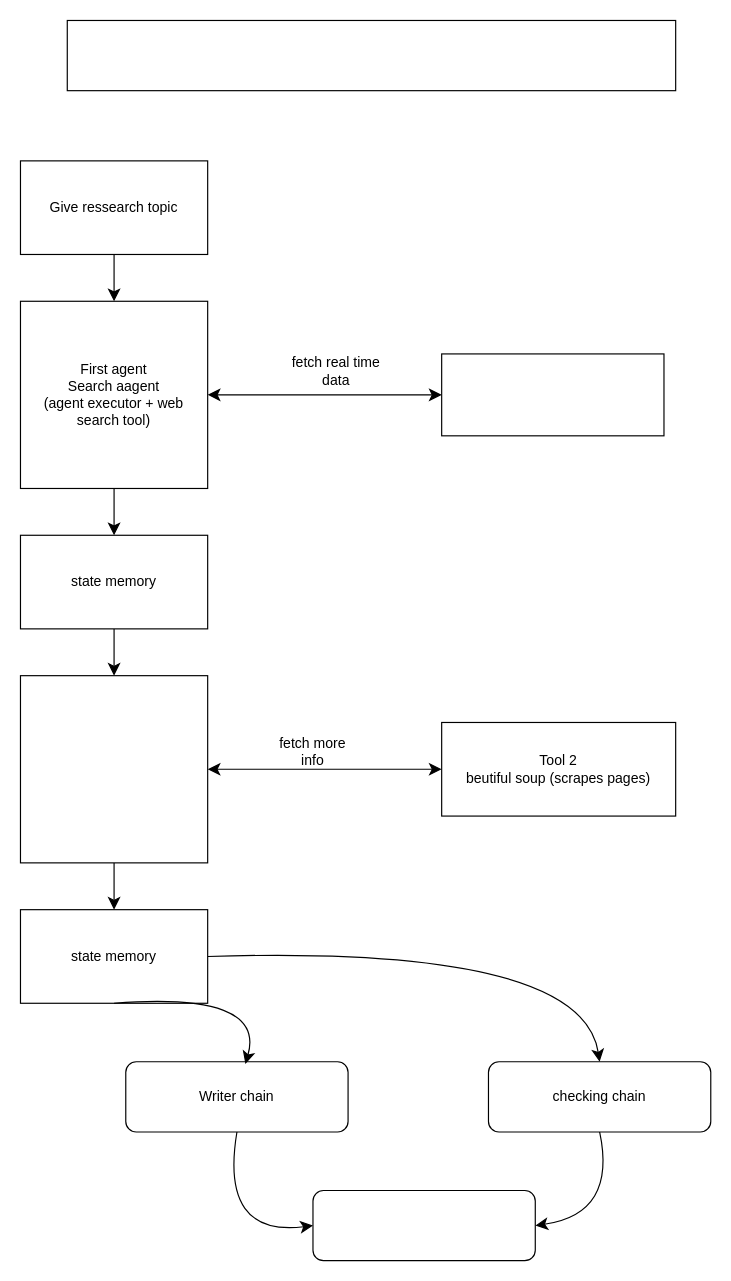
The diagram is 731 pixels wide and 1281 high, and some of its shapes have lost their labels. The shapes that lost their labels are listed below. From the top down, each one's centre as x and y in pixels, then its label:
[371,55]: Multi Agent AI Reserch System
[552,394]: tool 1 tavily api (live web results)
[113,769]: Reader aagent (agent executor + scrape url tool )
[423,1225]: final output
